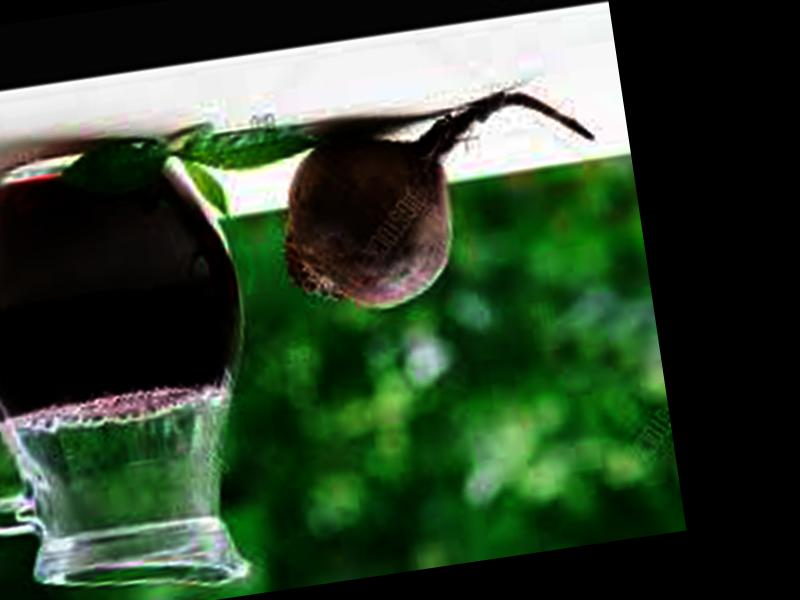Beet: (268, 79, 610, 318)
